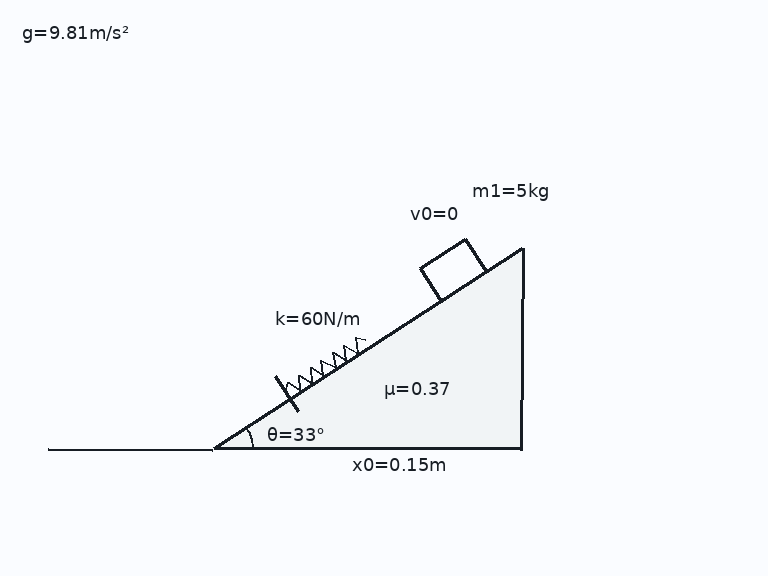block: (418, 237, 488, 303)
ramp: (211, 247, 524, 451)
spring: (283, 335, 368, 393)
